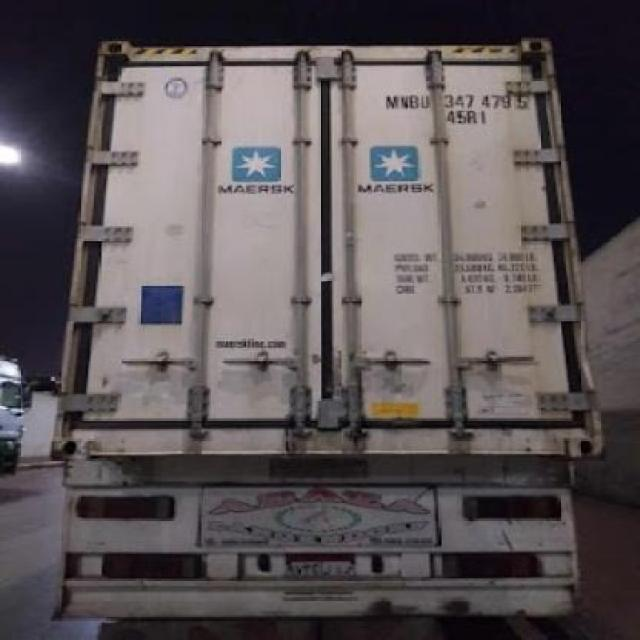ISO: (445, 108, 491, 124)
container_number: (386, 90, 526, 112)
